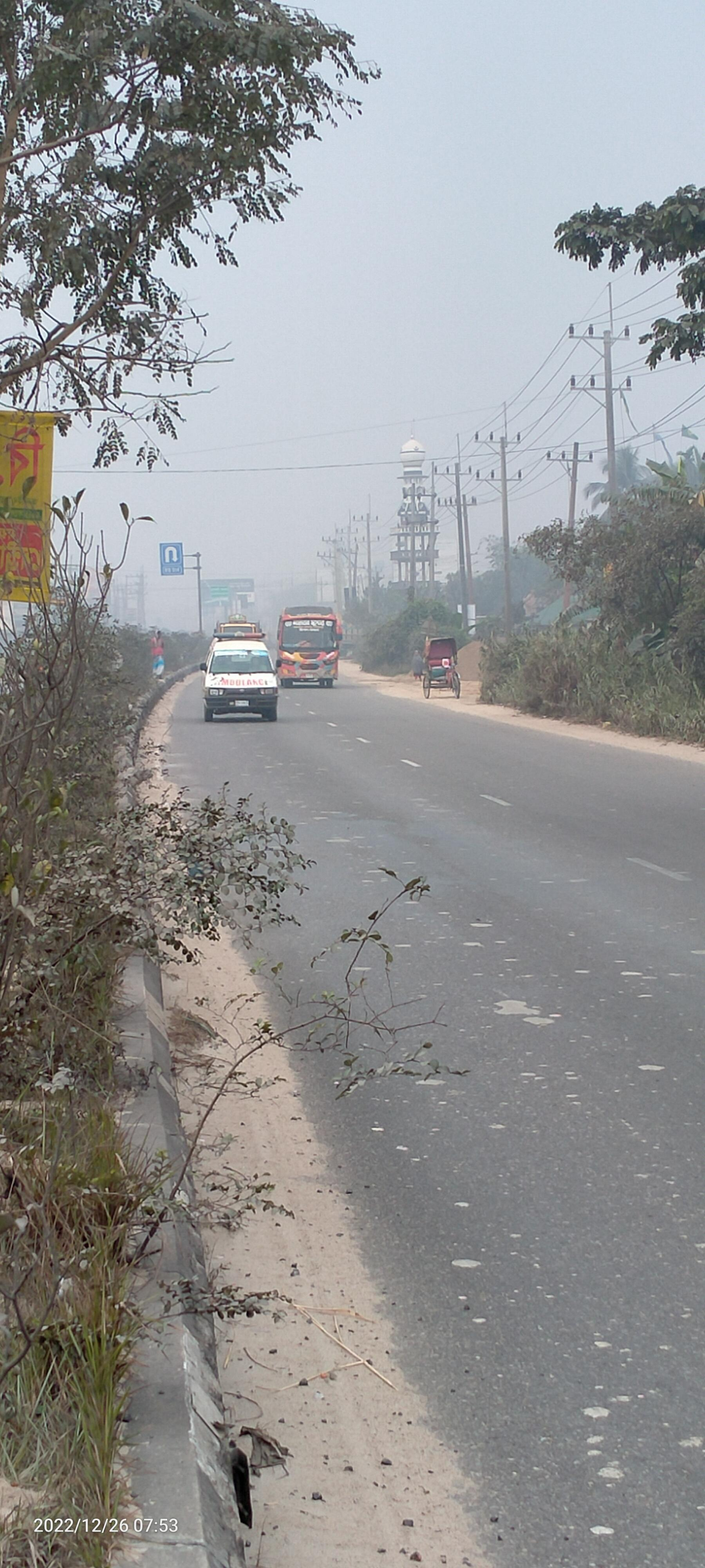Bus: (268, 601, 350, 697)
Car: (188, 632, 285, 728), (417, 631, 468, 705)
